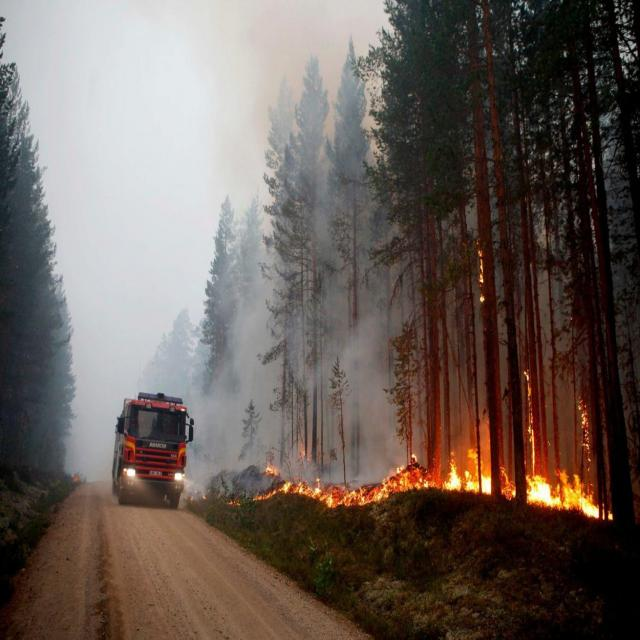fire: (284, 453, 601, 522)
